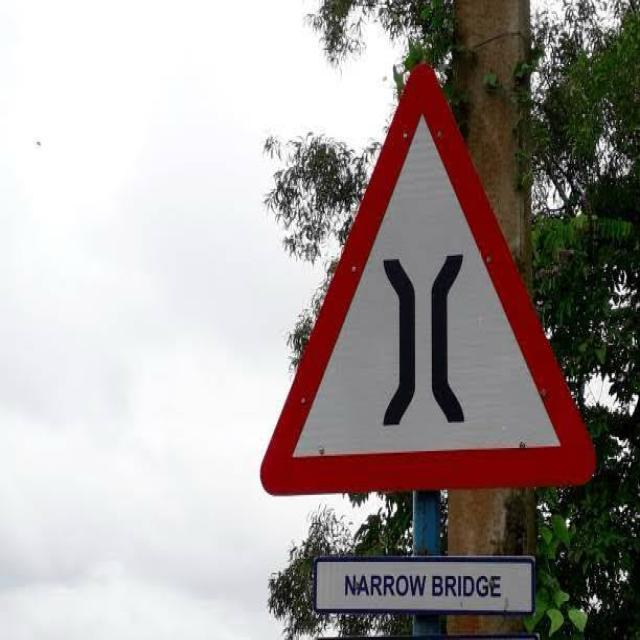narrow bridge ahead: (248, 47, 604, 504)
